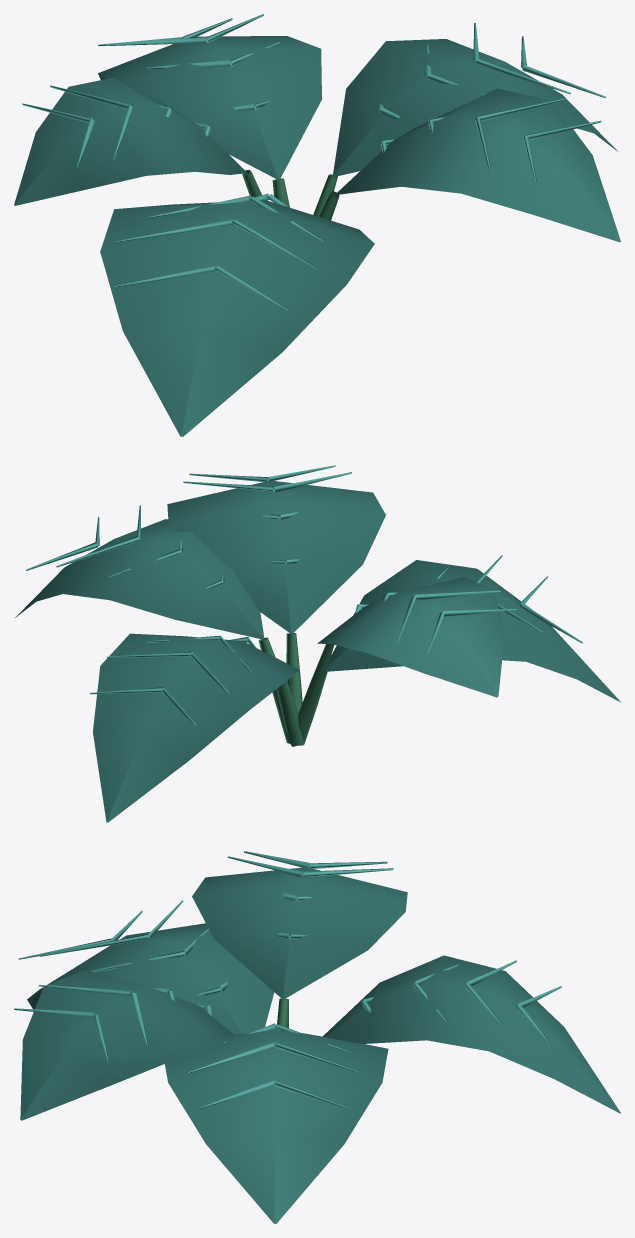
The model's file is Blue Ripple Lily.glb.
3 renders of one model, top to bottom at view 1: azimuth 30°, elevation 25°; view 2: azimuth 150°, elevation 25°; view 3: azimuth 270°, elevation 25°, orthographic. The views are drawn at different scales.
Parts seen in each view (by area): view 1: Blue Ripple Lily; view 2: Blue Ripple Lily; view 3: Blue Ripple Lily.
Boxes of the visible parts, x1,y1,x2,y2 form: Blue Ripple Lily: [14, 14, 620, 436]; Blue Ripple Lily: [15, 465, 620, 822]; Blue Ripple Lily: [14, 851, 620, 1223].
Size of the model in its own units: 1.3 by 0.4696 by 1.29.
